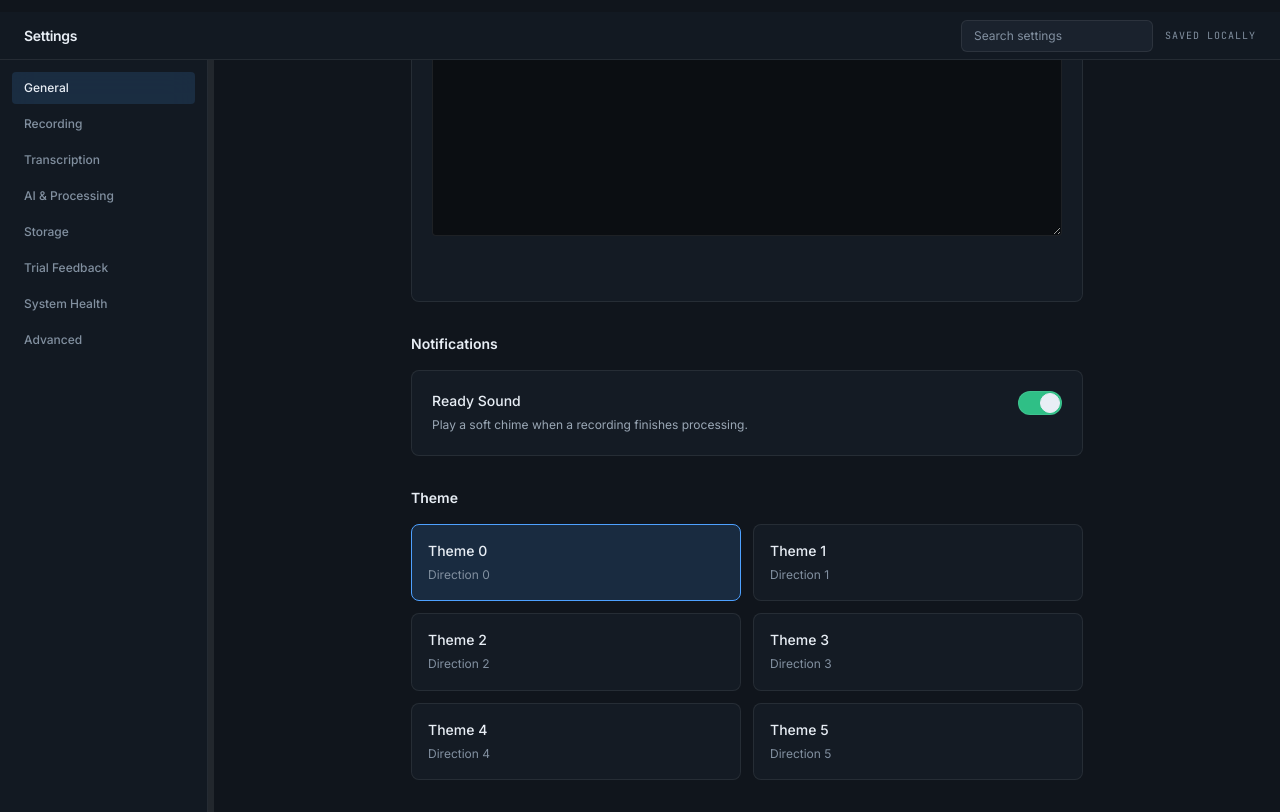
Test: Settings › shows searchable desktop sections, local save status, and six themes
The image size is (1280, 812).
(page scrolled)
Expected: the text "Saved locally" is shown, x1=1165 y1=28 x2=1256 y2=43
Click the button "Theme 4 Direction 4". click: point(458, 729)
box: x1=411 y1=702 x2=741 y2=780
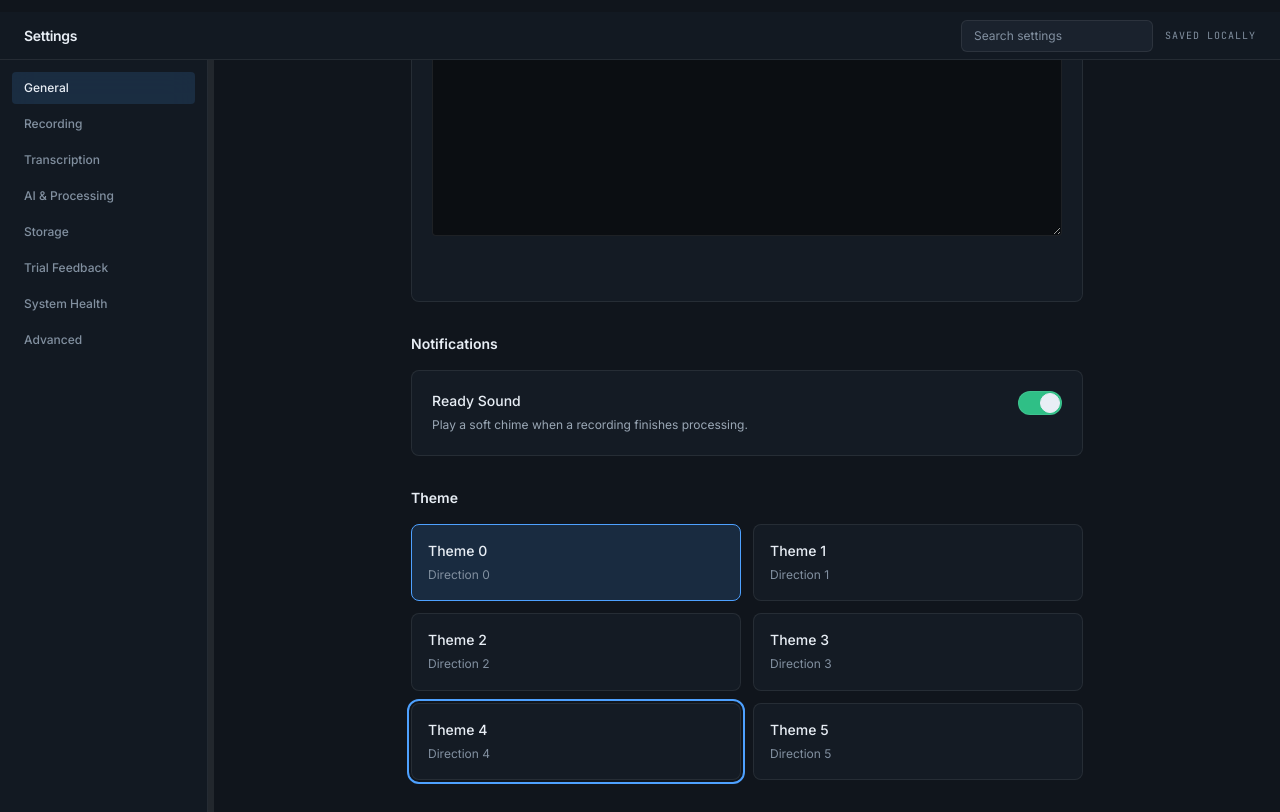
Type "system" into the field labelled "Search settings". click: point(1057, 36)
box: x1=961 y1=20 x2=1153 y2=52
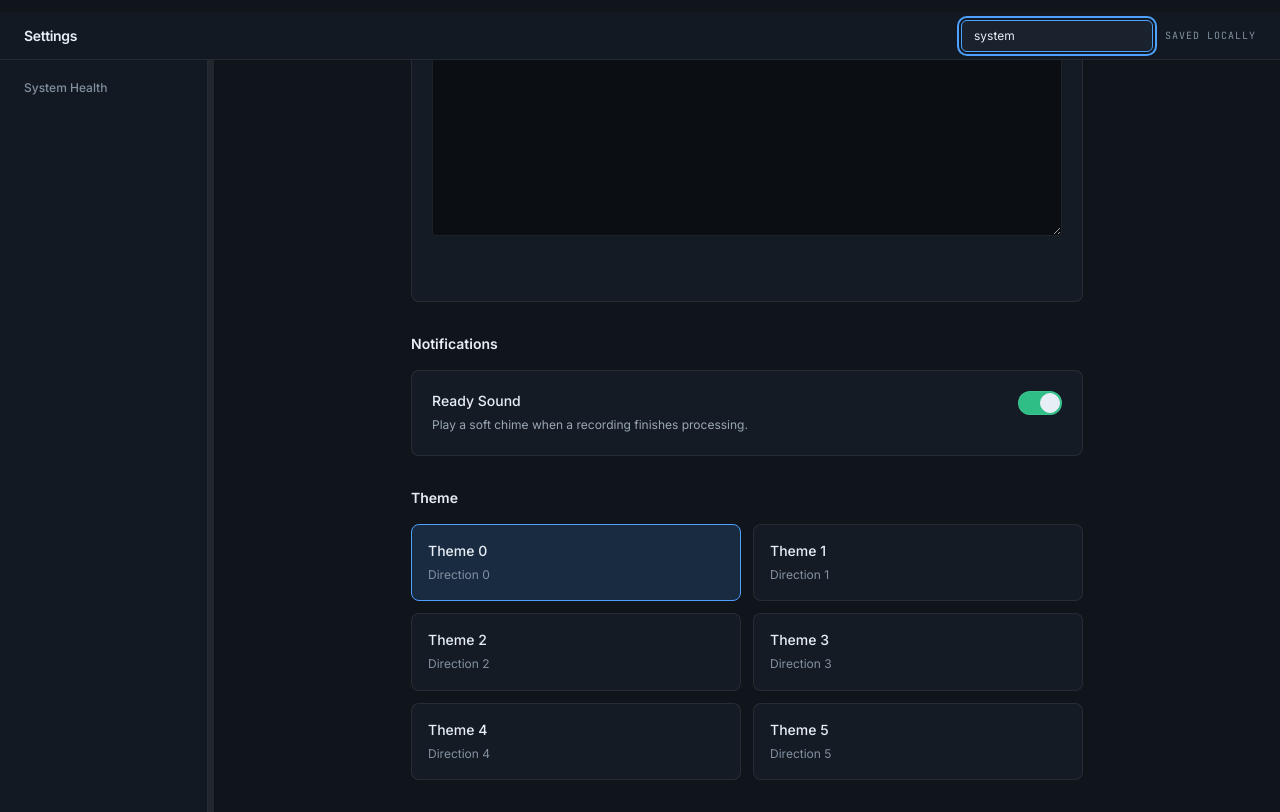
Expected: the tab "System Health" is shown, x1=12 y1=72 x2=195 y2=104
Expected: the tab "General" is gone
